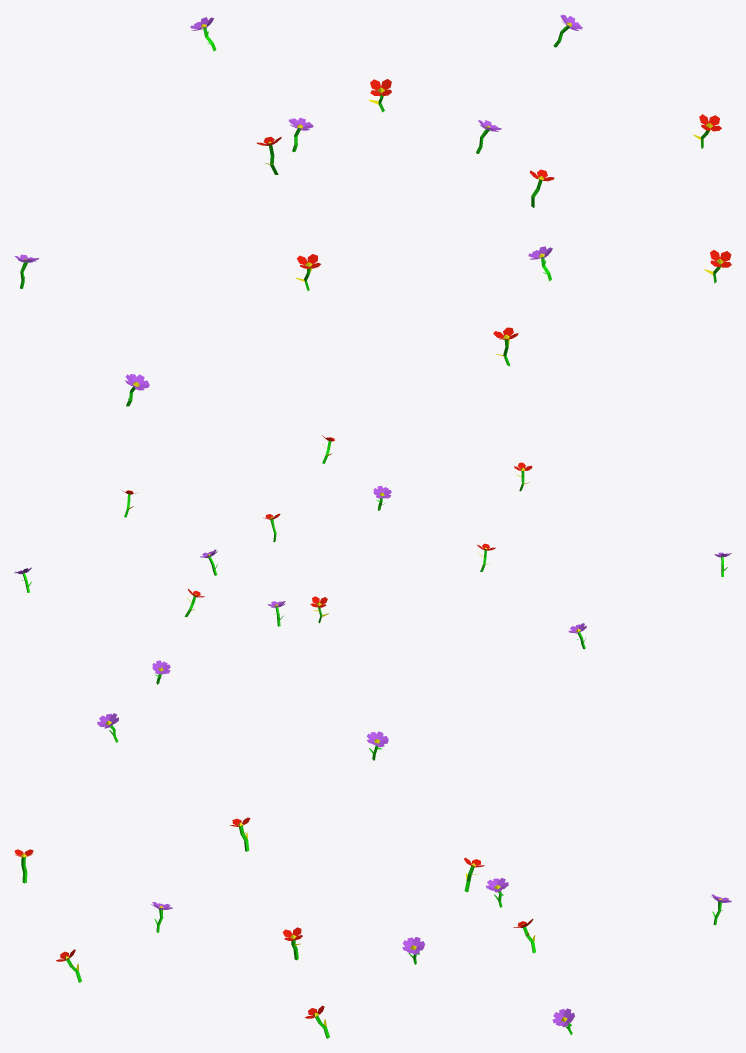
The model's file is flow2.fbx.
3 views of the same model, one above another, from view 1: azimuth 30°, elevation 25°; view 2: azimuth 150°, elevation 25°; view 3: azimuth 270°, elevation 25° (orthographic). The views are drawn at different scales.
Visible parts, largest first — view 1: Cube.235; view 2: Cube.235; view 3: Cube.235.
Boxes of the visible parts, <box> form: Cube.235: <box>14,14,731,406</box>; Cube.235: <box>14,435,731,684</box>; Cube.235: <box>14,713,731,1038</box>.
Bounding box in the file's own units: 1125 × 56.31 × 1119.
